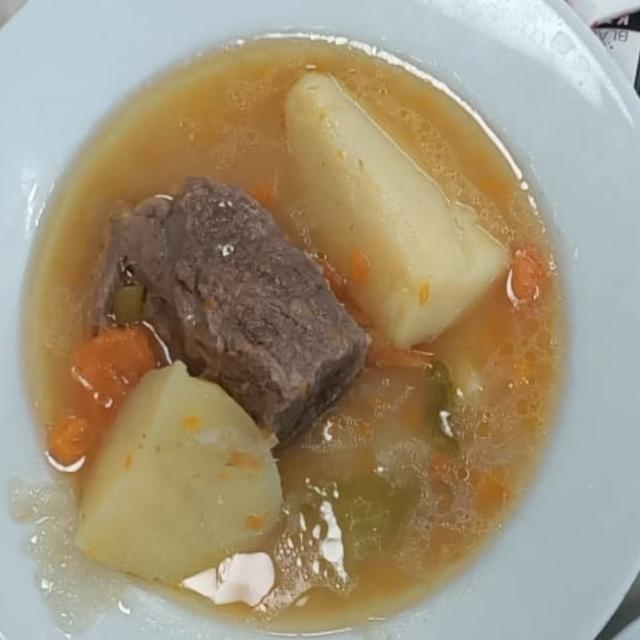ana_yemek: (33, 59, 566, 621)
